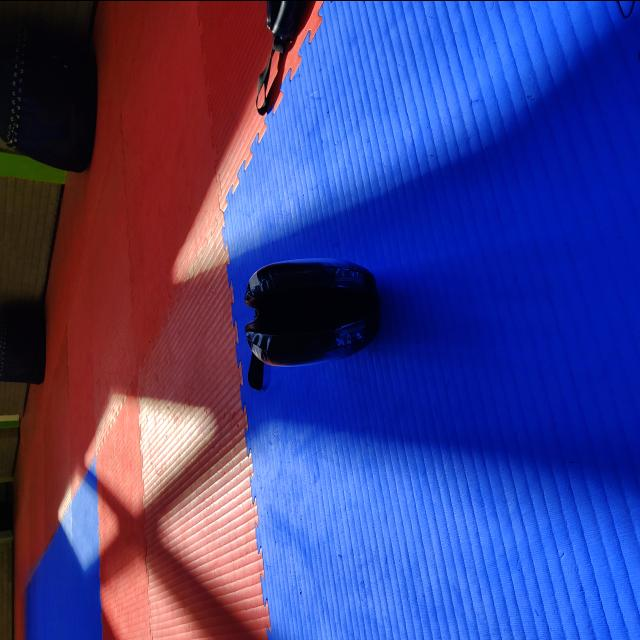paddle: (244, 255, 382, 368)
